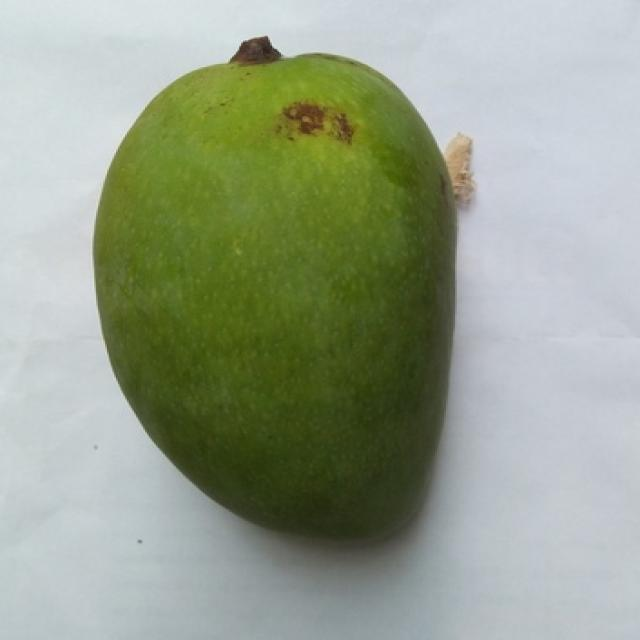Mango: (94, 39, 455, 540)
